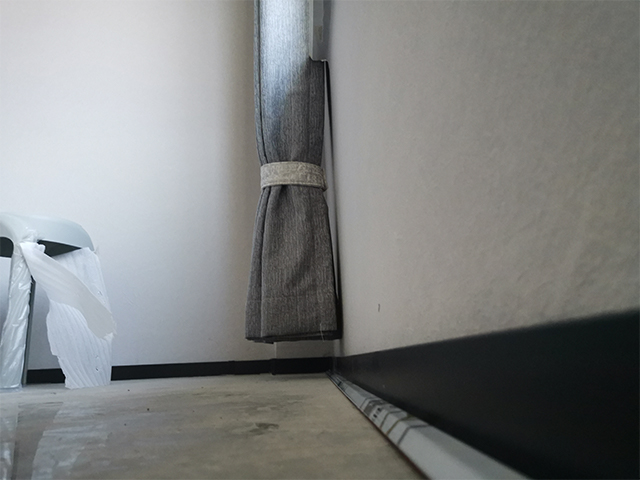curtain: (243, 1, 346, 345)
stool: (1, 208, 105, 391)
